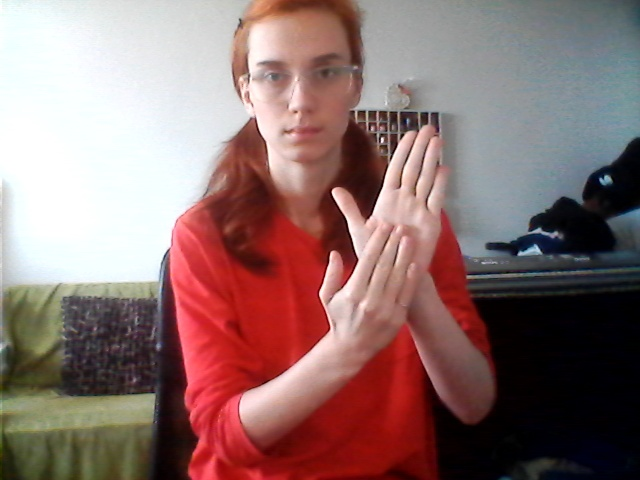m: (312, 123, 455, 366)
